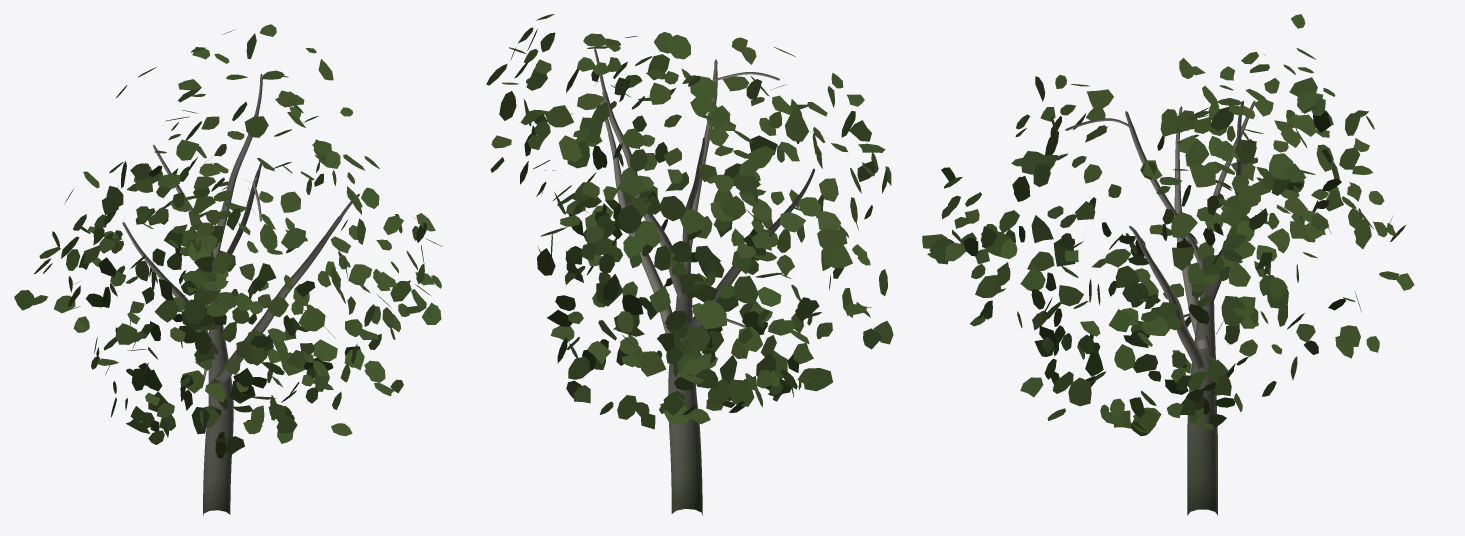
Rendered from SM_TreeFar_beech_1.glb.
3 renders of one model, left to right at view 1: azimuth 30°, elevation 25°; view 2: azimuth 150°, elevation 25°; view 3: azimuth 270°, elevation 25°, orthographic. The views are drawn at different scales.
Visible parts, largest first — view 1: SM_TreeFar_beech_1; view 2: SM_TreeFar_beech_1; view 3: SM_TreeFar_beech_1.
Boxes of the visible parts, left/top/right/bottom form: SM_TreeFar_beech_1: left=14, top=24, right=442, bottom=515; SM_TreeFar_beech_1: left=486, top=14, right=893, bottom=515; SM_TreeFar_beech_1: left=922, top=14, right=1414, bottom=515.
Bounding box in the file's own units: 12.81 × 17.57 × 17.42.
